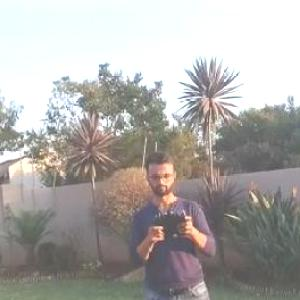follow: (125, 139, 227, 299)
